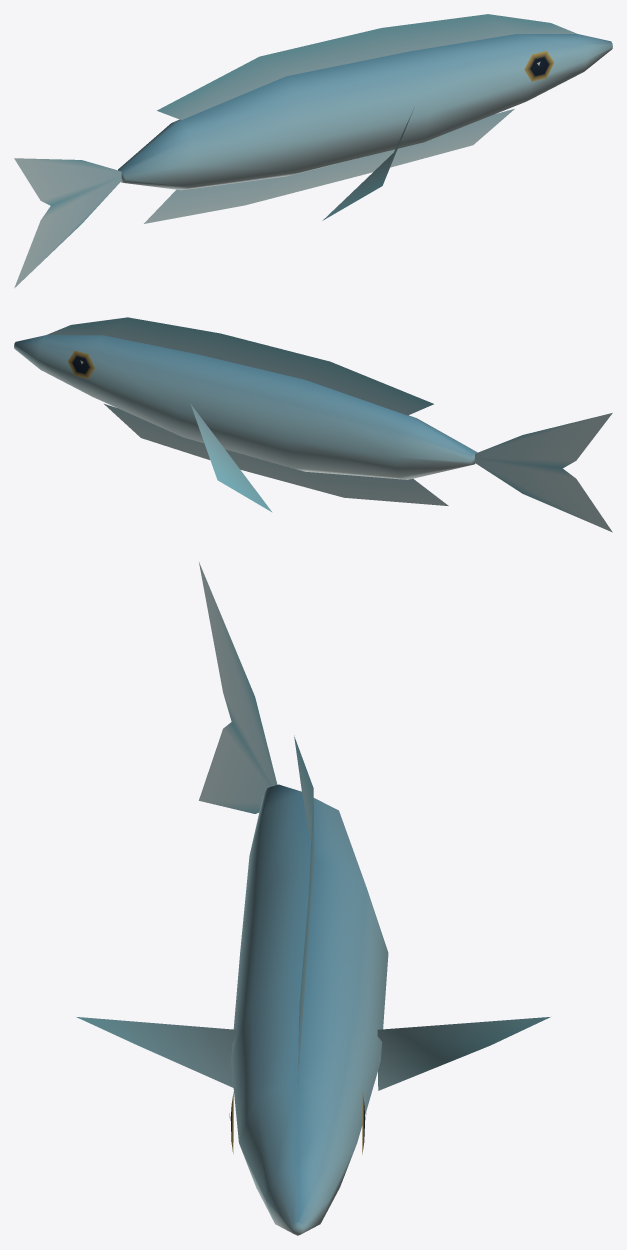
The model's file is fish-moon-sardine.glb.
The picture shows the model from 3 angles, top to bottom: view 1: azimuth 30°, elevation 25°; view 2: azimuth 150°, elevation 25°; view 3: azimuth 270°, elevation 25°; orthographic projection. The views are drawn at different scales.
Visible parts, largest first — view 1: fish-moon-sardine.002; view 2: fish-moon-sardine.002; view 3: fish-moon-sardine.002.
Boxes of the visible parts, x1,y1,x2,y2 form: fish-moon-sardine.002: (14,14,612,288); fish-moon-sardine.002: (14,317,612,532); fish-moon-sardine.002: (76,562,550,1235).
Size of the model in its own units: 1.5 by 0.3336 by 0.54.
